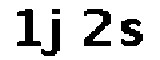1: (13, 6, 47, 48)
2: (78, 4, 115, 52)
j: (42, 3, 66, 60)
s: (118, 16, 148, 53)
